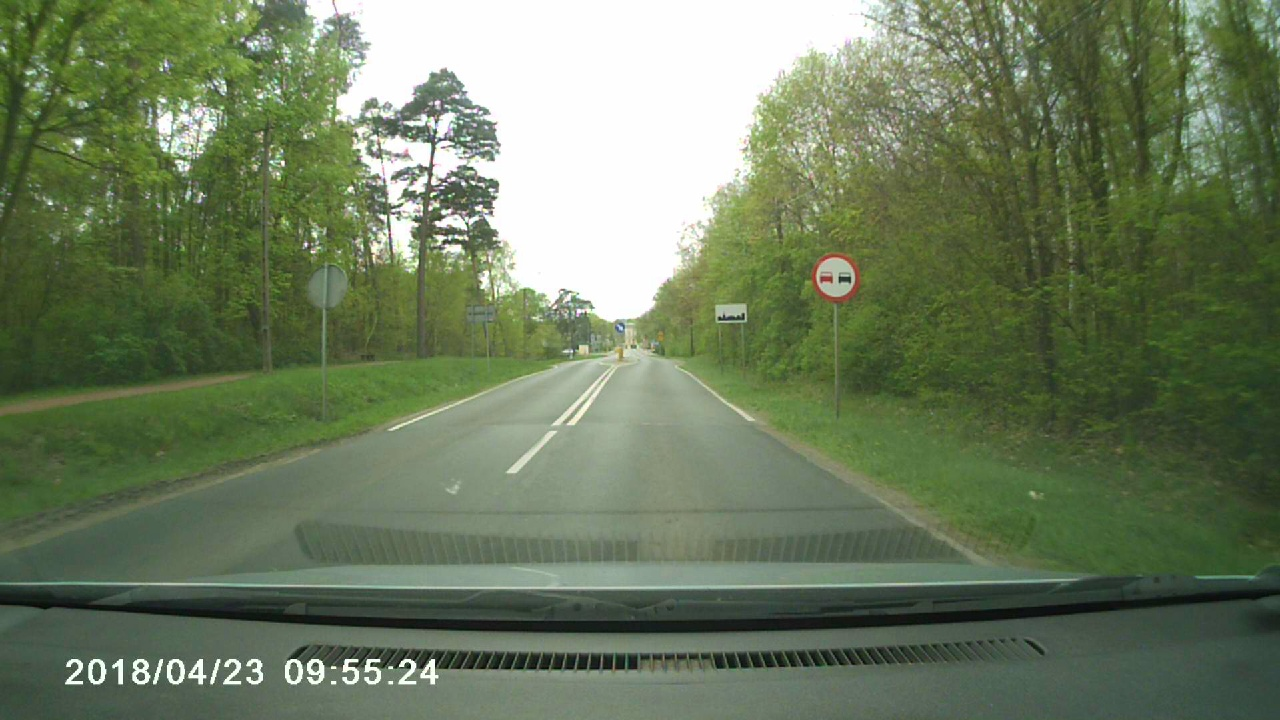B25: (812, 253, 861, 302)
D42: (715, 303, 748, 323)
